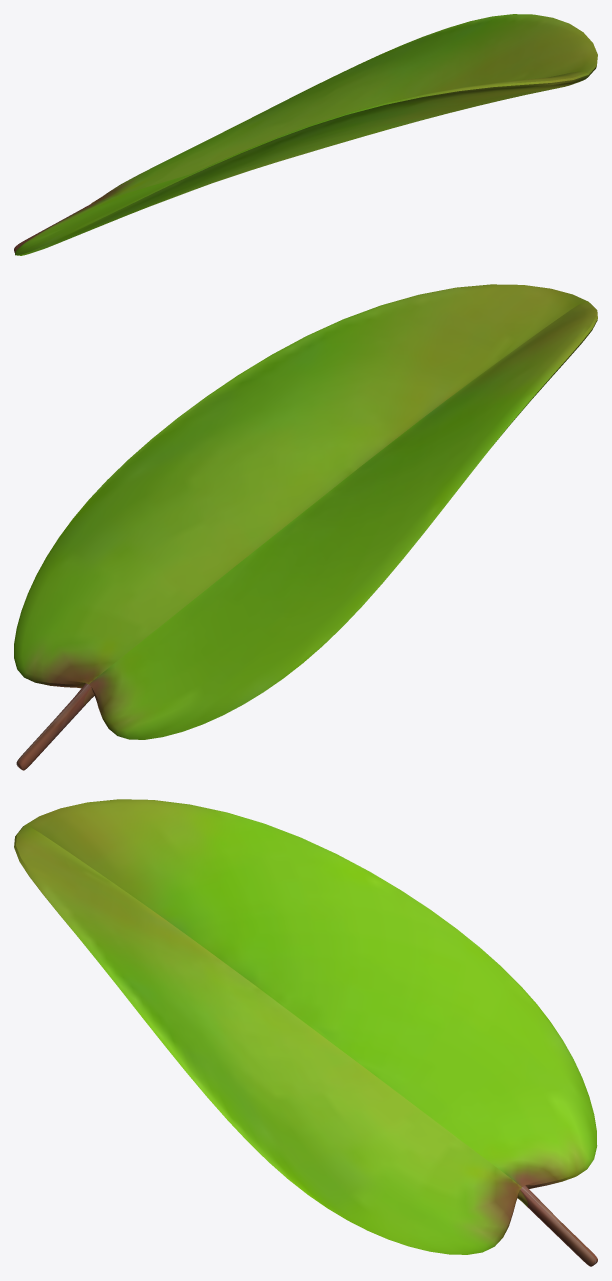
Rendered from cartoonLeaf.glb.
3 views of the same model, one above another, from view 1: azimuth 90°, elevation 25°; view 2: azimuth 150°, elevation 25°; view 3: azimuth 270°, elevation 25° (orthographic). The views are drawn at different scales.
Parts seen in each view (by area): view 1: Object_4; view 2: Object_4; view 3: Object_4.
Boxes of the visible parts, bbox=[...] form: Object_4: bbox=[14, 14, 597, 255]; Object_4: bbox=[14, 284, 597, 770]; Object_4: bbox=[14, 799, 597, 1266].
Bounding box in the file's own units: 1.92 × 1.42 × 2.37.
1 material, 1 textured.
